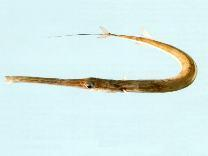Fistularia commersonii: (3, 27, 197, 94)
